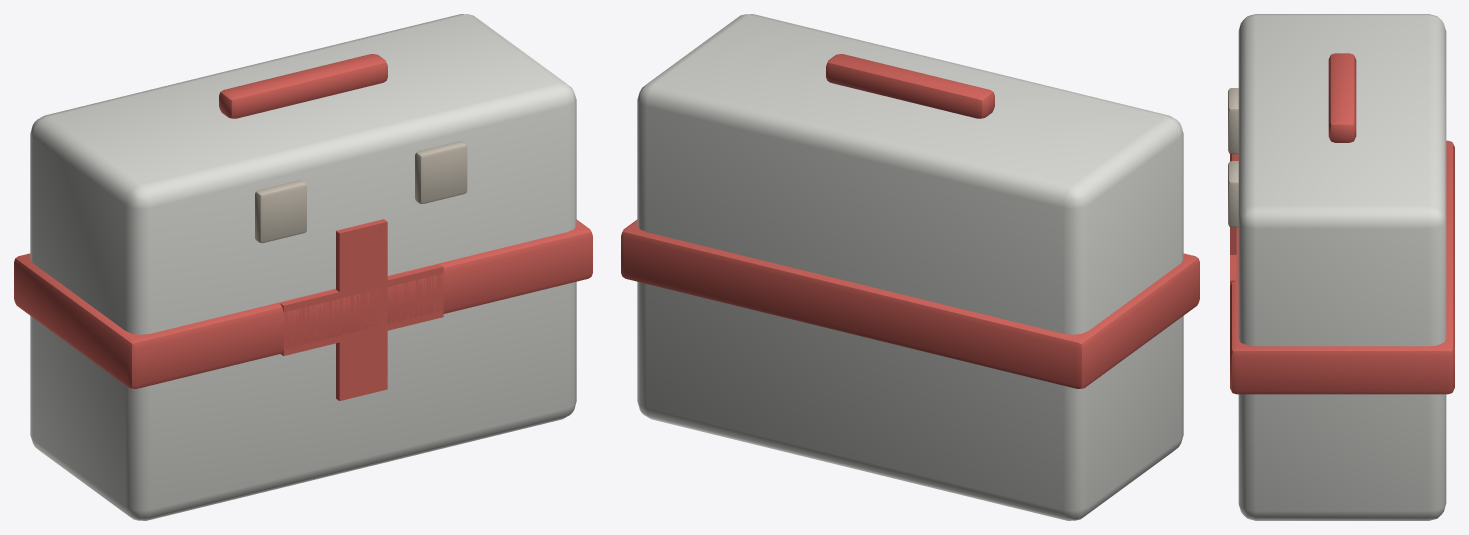
File: kit_medico.glb
The picture shows the model from 3 angles, left to right: view 1: azimuth 30°, elevation 25°; view 2: azimuth 150°, elevation 25°; view 3: azimuth 270°, elevation 25°; orthographic projection. The views are drawn at different scales.
Visible parts, largest first — view 1: kit_medico_kit_white, kit_medico_kit_red, kit_medico_gun_accent; view 2: kit_medico_kit_white, kit_medico_kit_red; view 3: kit_medico_kit_white, kit_medico_kit_red, kit_medico_gun_accent.
Boxes of the visible parts, left/top/right/bottom form: kit_medico_kit_white: left=30, top=14, right=576, bottom=520; kit_medico_kit_red: left=14, top=54, right=592, bottom=400; kit_medico_gun_accent: left=255, top=141, right=467, bottom=243; kit_medico_kit_white: left=637, top=14, right=1183, bottom=520; kit_medico_kit_red: left=621, top=54, right=1199, bottom=388; kit_medico_kit_white: left=1238, top=14, right=1446, bottom=520; kit_medico_kit_red: left=1230, top=53, right=1454, bottom=394; kit_medico_gun_accent: left=1228, top=88, right=1238, bottom=227.
Bounding box in the file's own units: 0.29 × 0.215 × 0.131.
